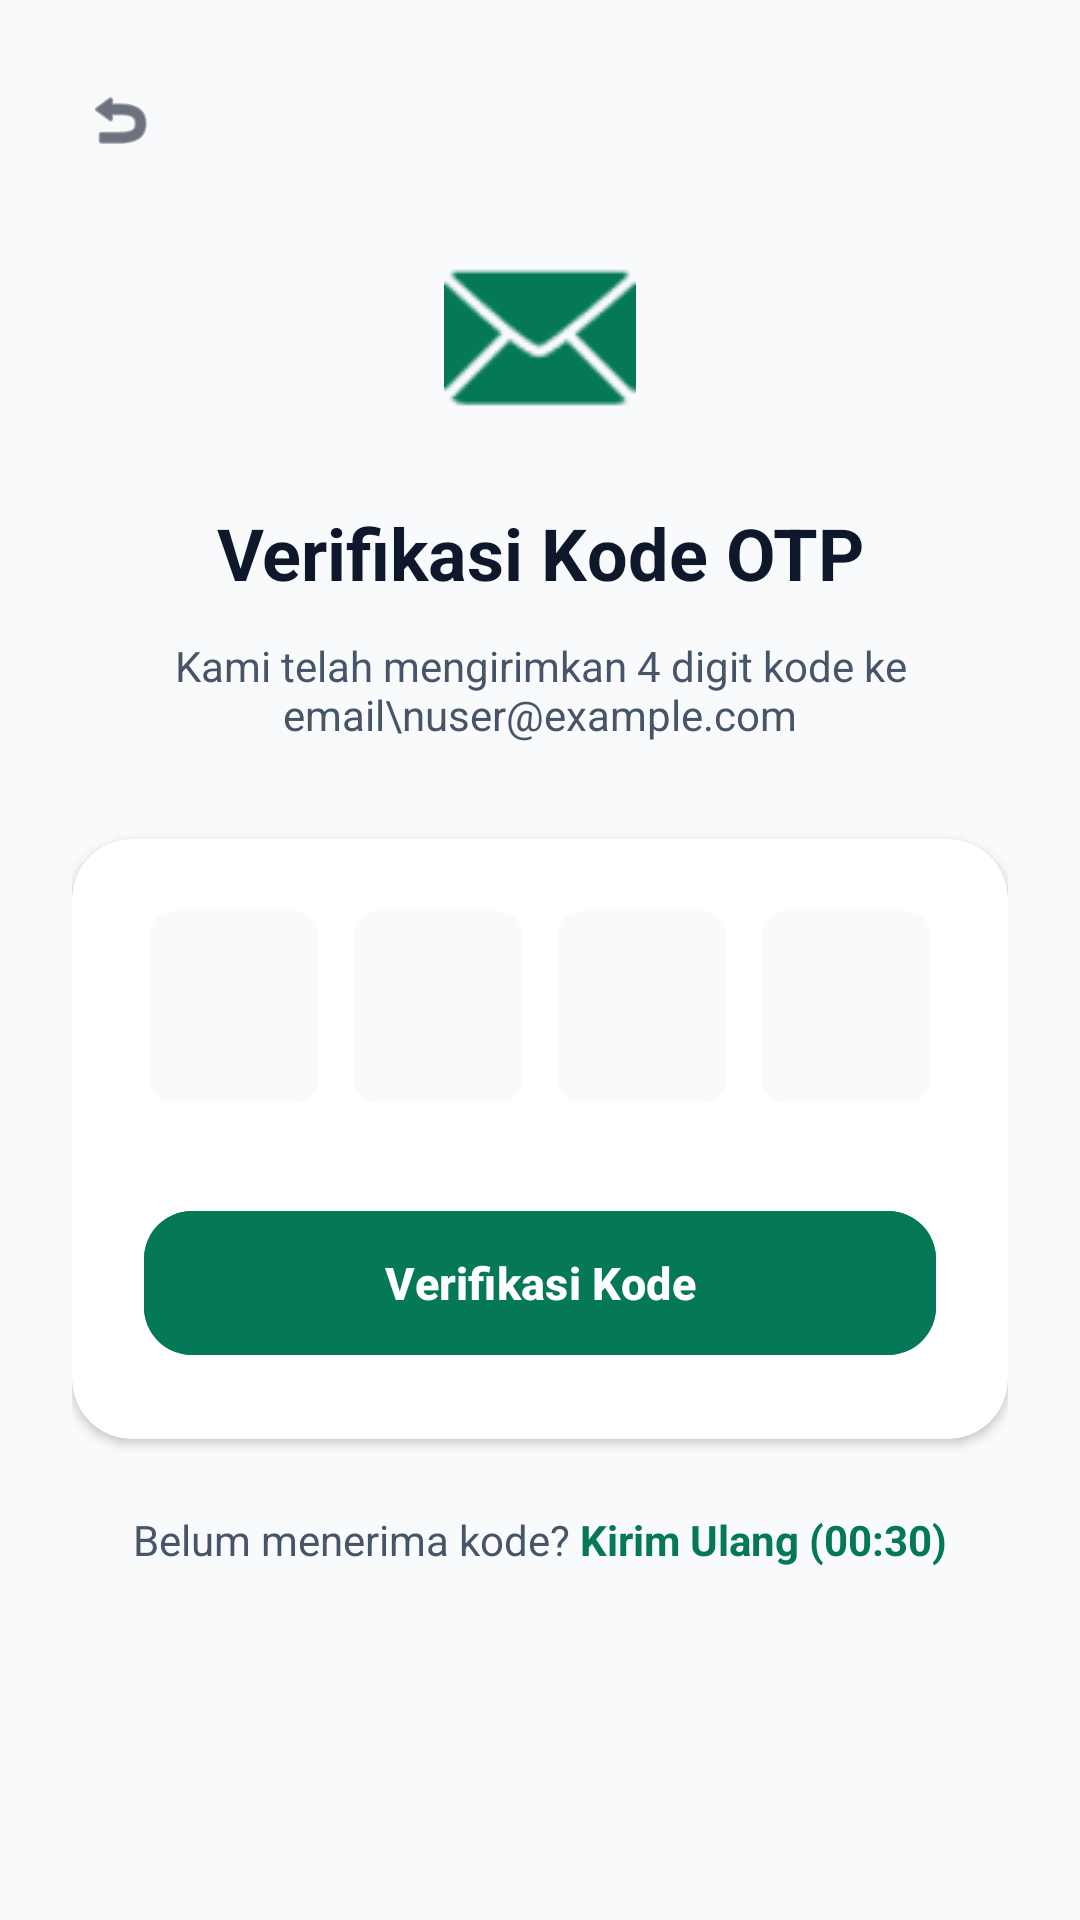

Icons on this 1080*1920 Android screen, each with the point to tap as (x=x, y=y):
email: (x=540, y=337)
revert: (x=121, y=120)
